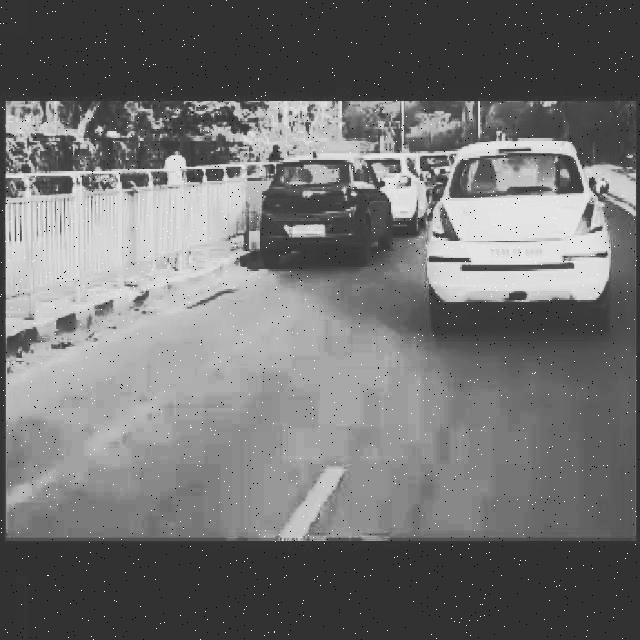Car: (431, 135, 622, 329), (264, 147, 396, 258), (367, 147, 431, 227), (415, 145, 453, 176)
